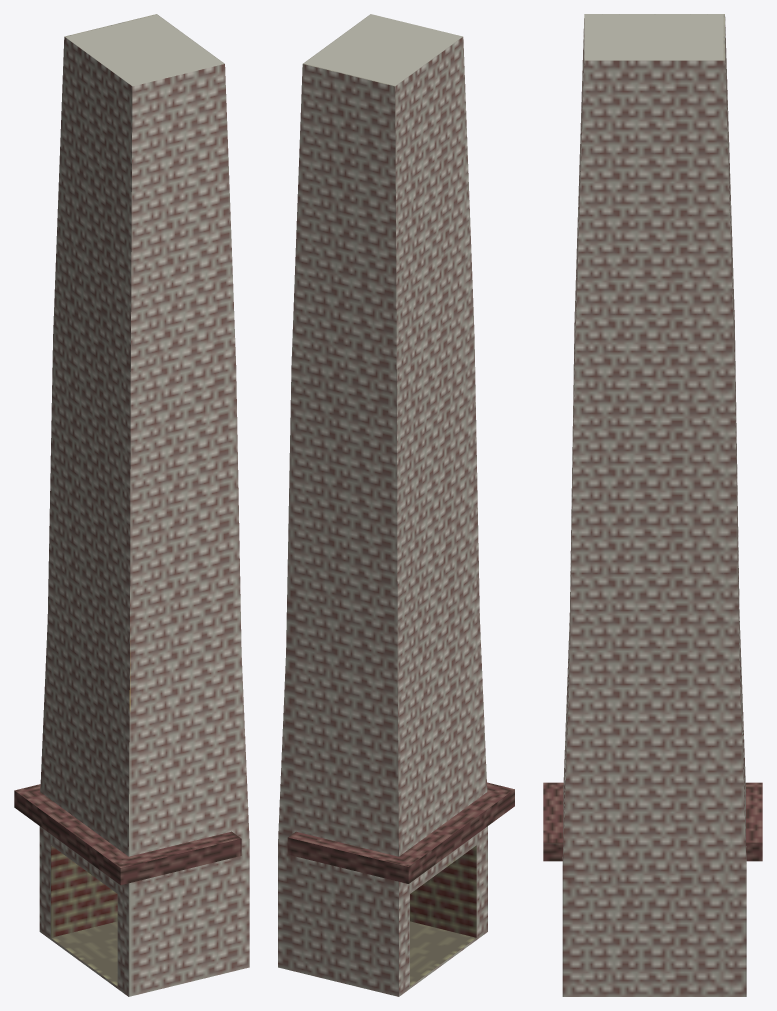
File: fireplace.fbx
3 views of the same model, side by side, from view 1: azimuth 30°, elevation 25°; view 2: azimuth 150°, elevation 25°; view 3: azimuth 270°, elevation 25° (orthographic). The views are drawn at different scales.
Visible parts, largest first — view 1: chimney.001, mantel.001; view 2: chimney.001, mantel.001; view 3: chimney.001, mantel.001.
Boxes of the visible parts, box(x1,y1,x2,y2) form: chimney.001: box(39, 14, 249, 996); mantel.001: box(14, 784, 241, 885); chimney.001: box(278, 14, 487, 996); mantel.001: box(287, 782, 514, 883); chimney.001: box(562, 14, 746, 996); mantel.001: box(543, 782, 762, 861).
Bounding box in the file's own units: 229 × 1422 × 304.
1 material, 1 textured.
